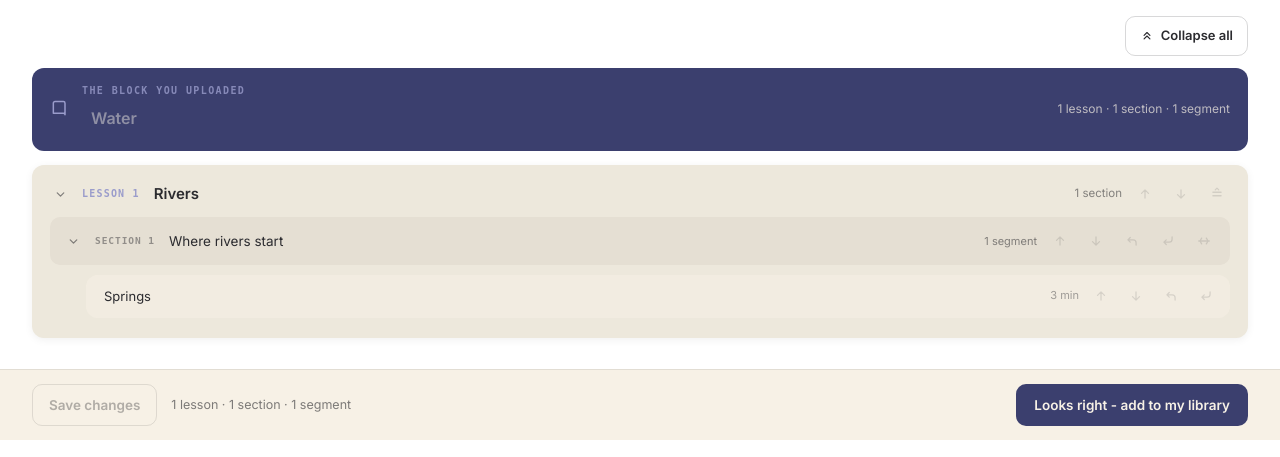
it: undo › is offered once a change has been saved
Replace the text in the field named "Lesson 1 title" with "Streams". click: (607,194)
box: [150,180,1064,207]
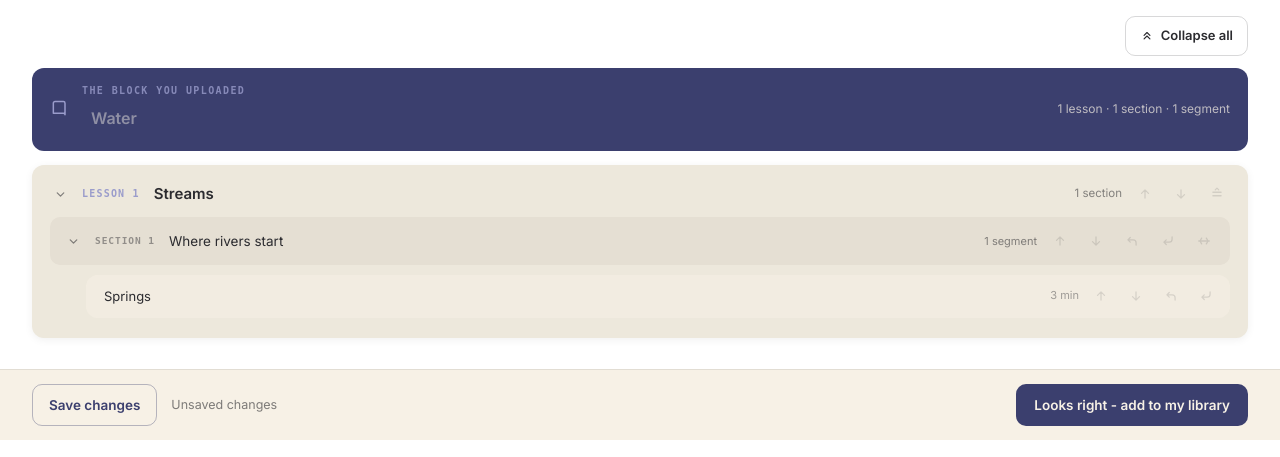
Click the button "Save changes". click: (95,405)
box: [32,384,157,426]
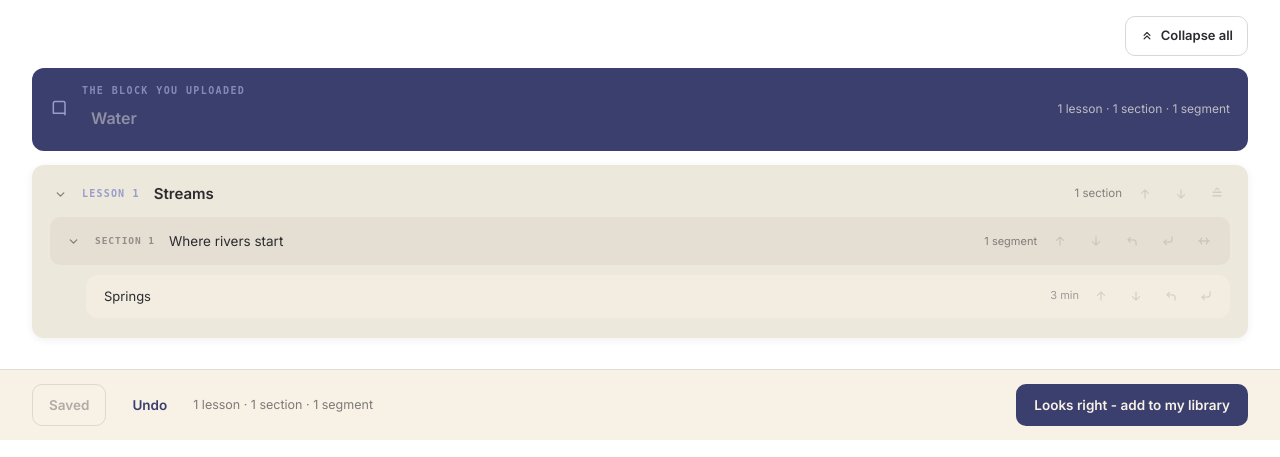
Now the button "Saved" is shown, box [32,384,106,426]
Now the button "Undo" is shown, box [120,384,179,426]
